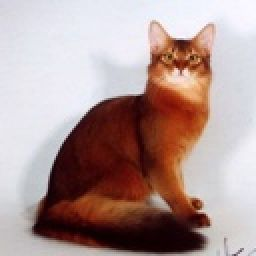cat: (45, 16, 219, 248)
